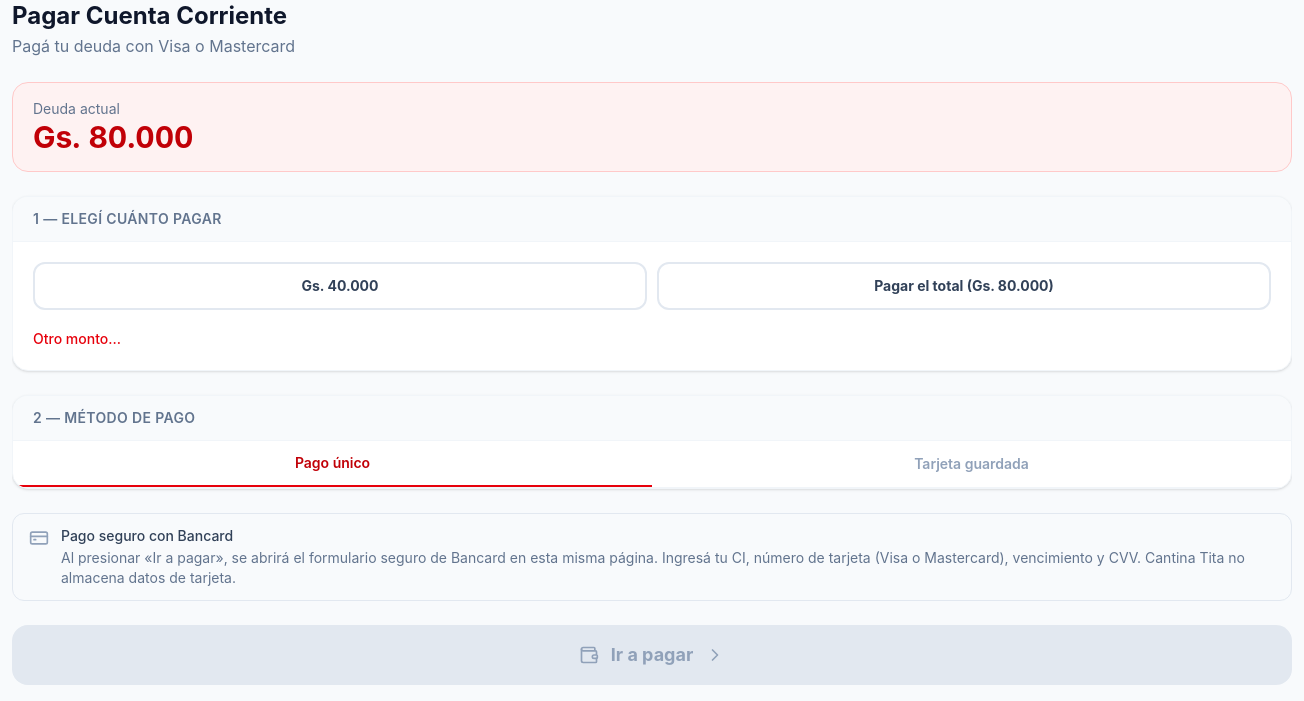
Test: PagarCC — tarjeta guardada › botón "Ir a pagar" queda deshabilitado sin tarjeta seleccionada
The width and height of the screenshot is (1304, 701).
Check: the text "Deuda actual" is shown, box [33, 100, 120, 117]
Click the button "Pagar el total (Gs. 80.000)" at (964, 286), box [657, 262, 1271, 310]
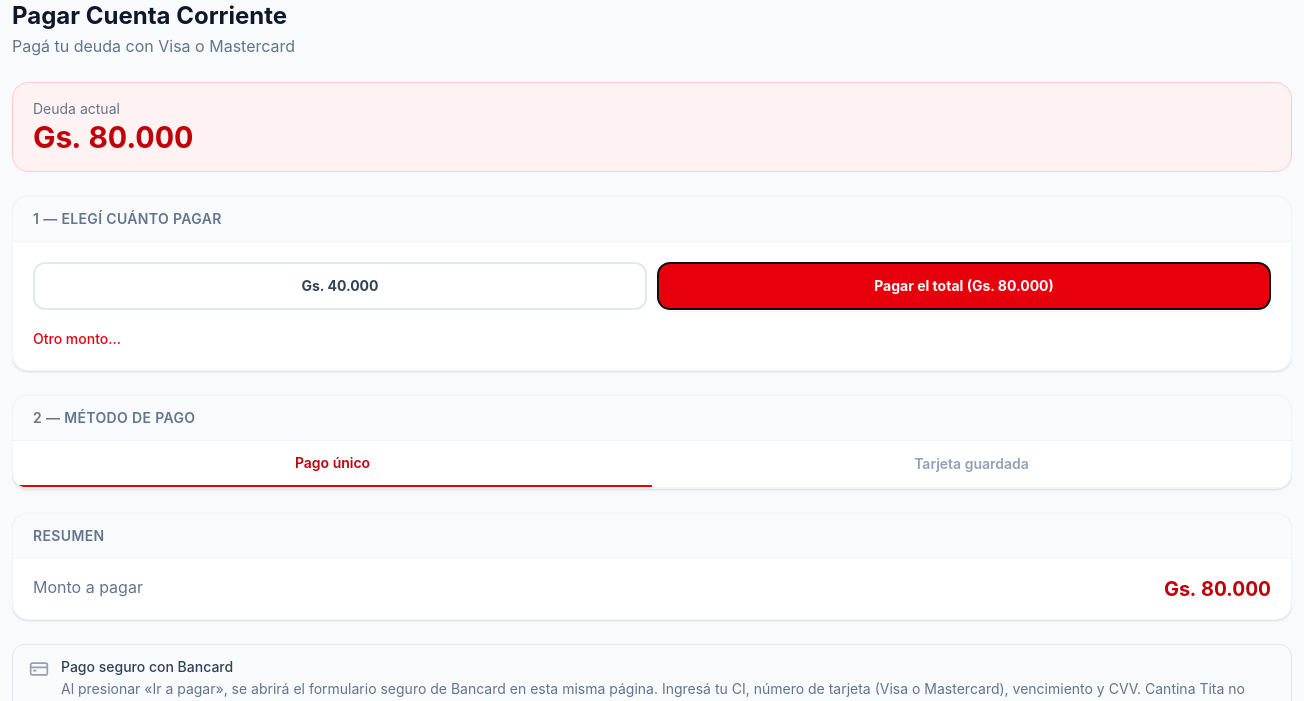
Click the button "Tarjeta guardada" at (972, 464), box [652, 441, 1291, 487]
(page scrolled)
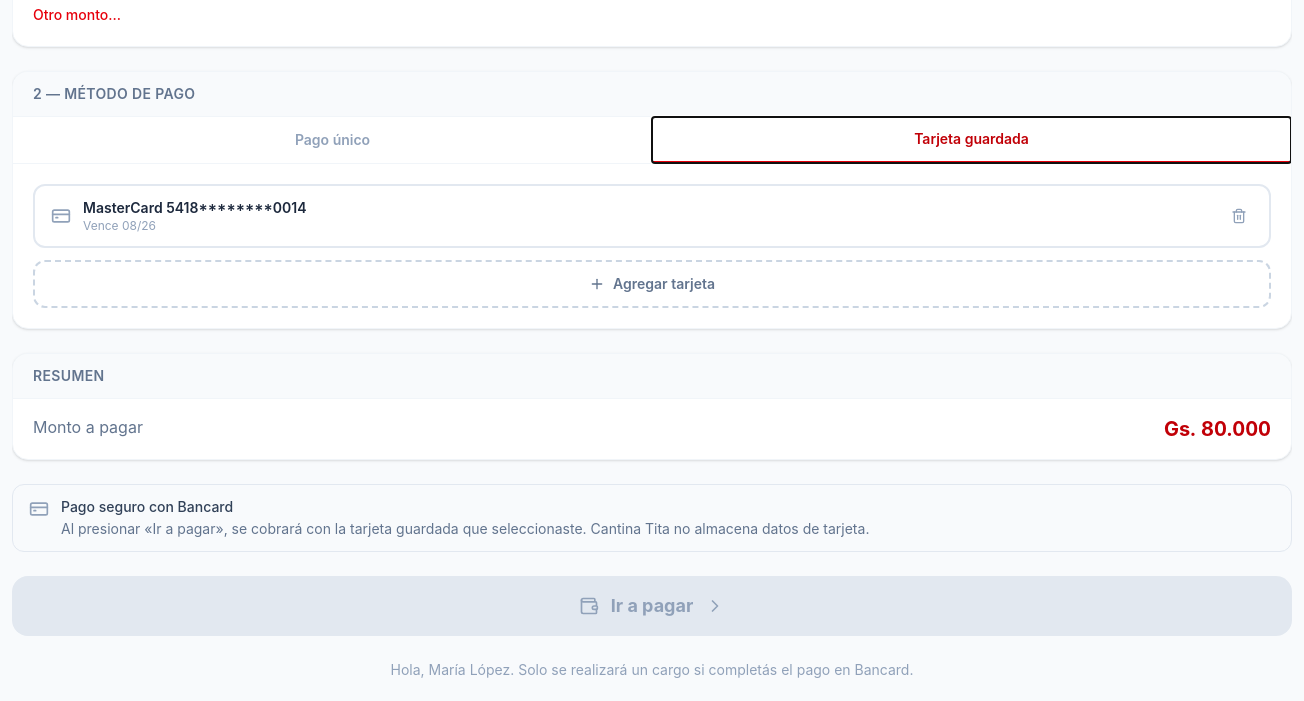
Check: the text "MasterCard 5418********0014" is shown, box [83, 198, 307, 218]
Check: the button "Ir a pagar" is disabled, box [12, 576, 1292, 636]
